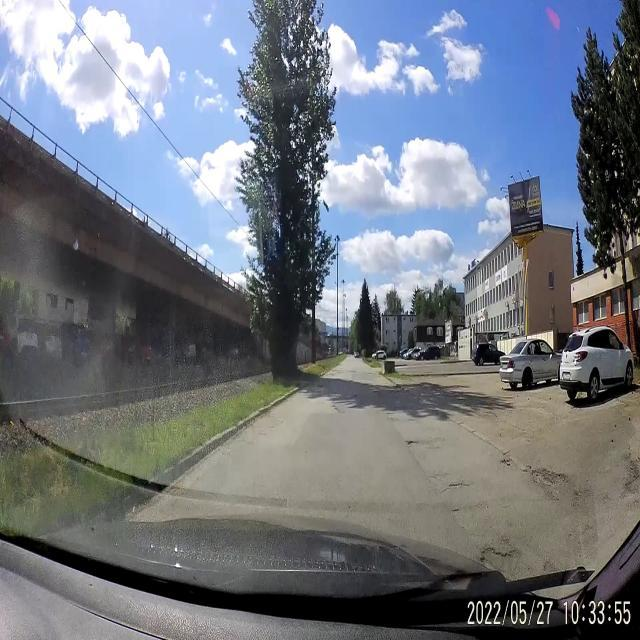Pothole: (480, 542, 518, 572), (528, 465, 568, 486), (626, 448, 640, 502), (440, 477, 468, 492), (400, 434, 423, 452), (502, 452, 514, 469)
